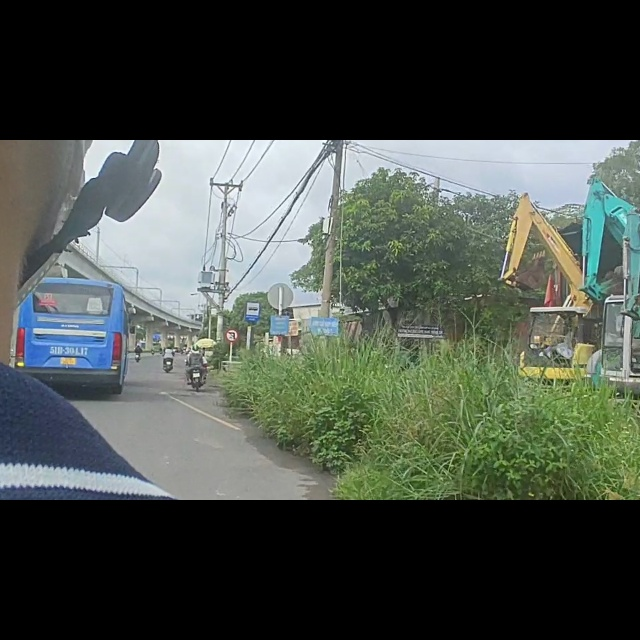bien_cam: (245, 286, 262, 322), (226, 335, 239, 359)
